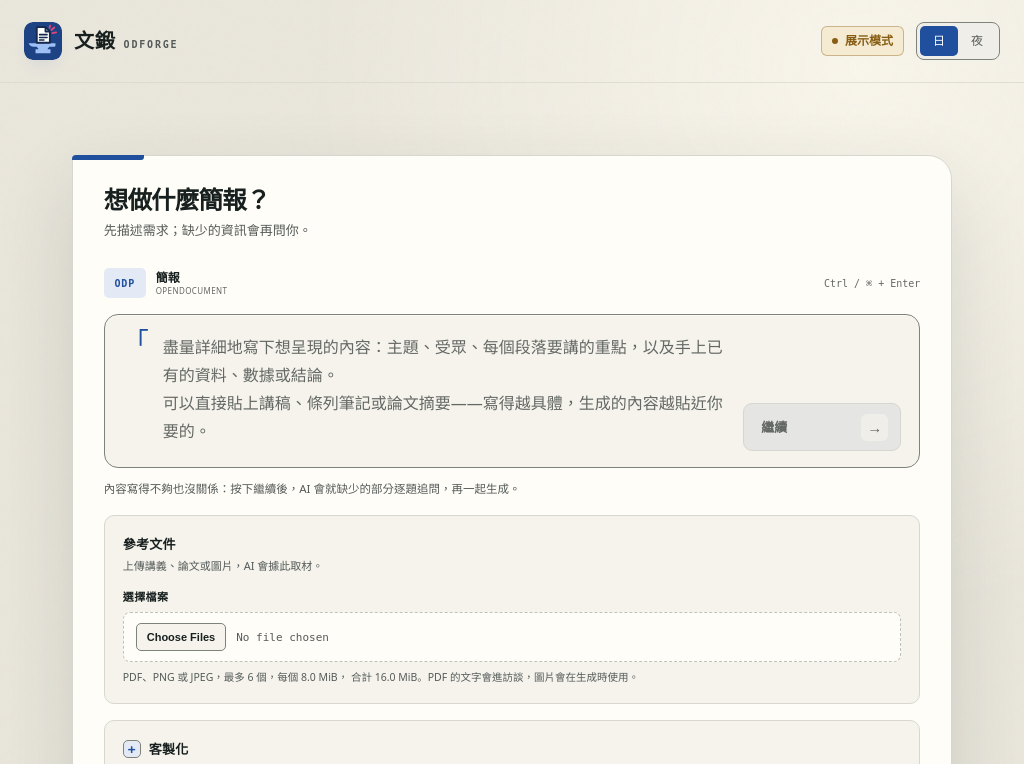
it: ?mock 模式:送出即進 mock 流(跳過訪談、零網路),格式閘依序點亮、設計閘顯示未啟用、下載鈕誠實 disabled
Replace the text in the text box labelled "主題" with "樹與二元樹" at coordinates (446, 389), box top-left (163, 333), bottom-right (729, 445)
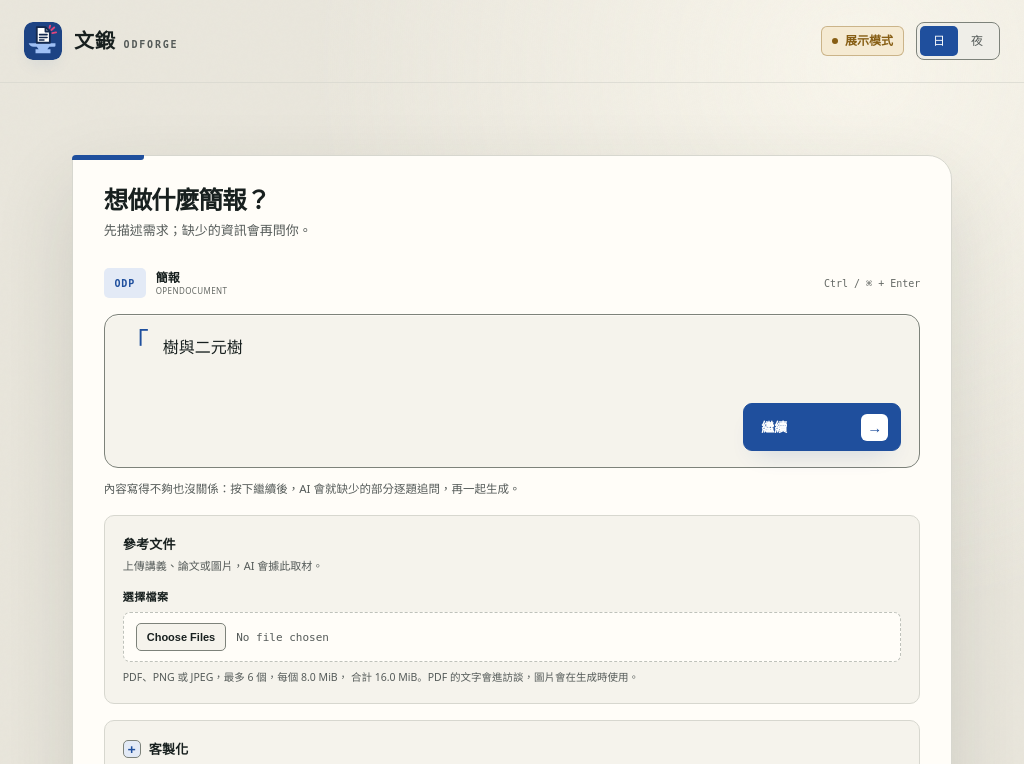
Click the button "繼續 →" at coordinates (822, 427), box top-left (743, 403), bottom-right (901, 451)
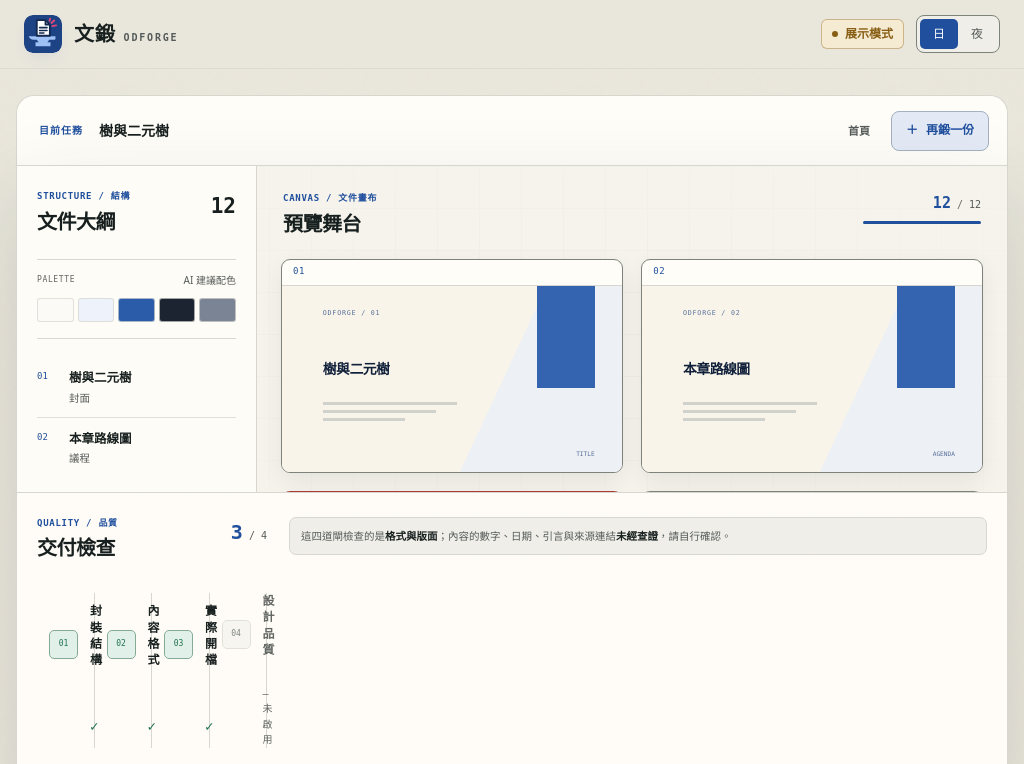
Now the text "樹與二元樹" next to "目前任務" is shown, box top-left (99, 121), bottom-right (169, 140)
Now the button "＋ 再鍛一份" is shown, box top-left (891, 110), bottom-right (989, 150)
